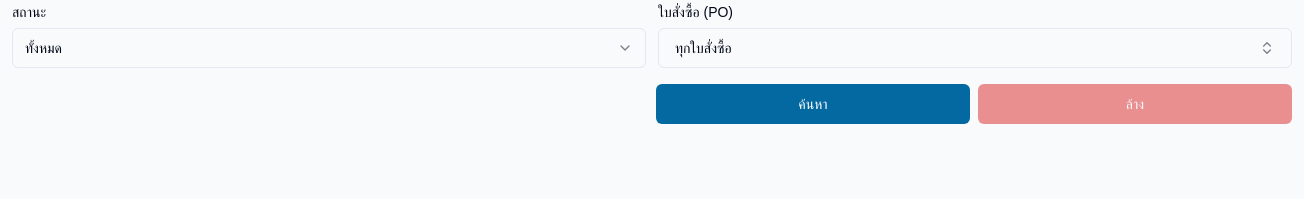
Test case: GRNListFilterForm › renders the status options with Thai labels
Click the dropdown named "สถานะ": (44, 48) [12,28,646,68]
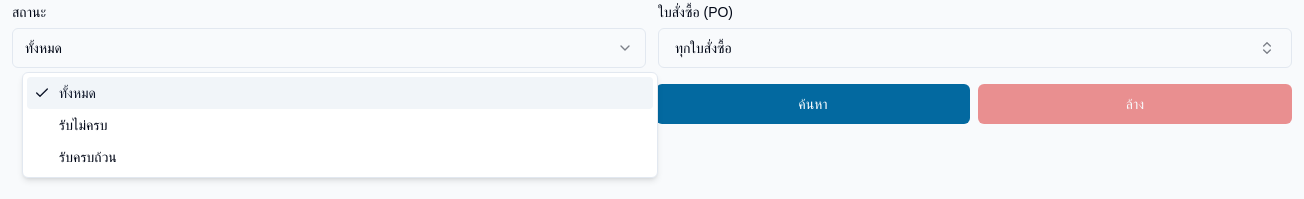
Expected: the option "รับไม่ครบ" is shown, [59,117,107,133]
Expected: the option "รับครบถ้วน" is shown, [59,149,117,165]
